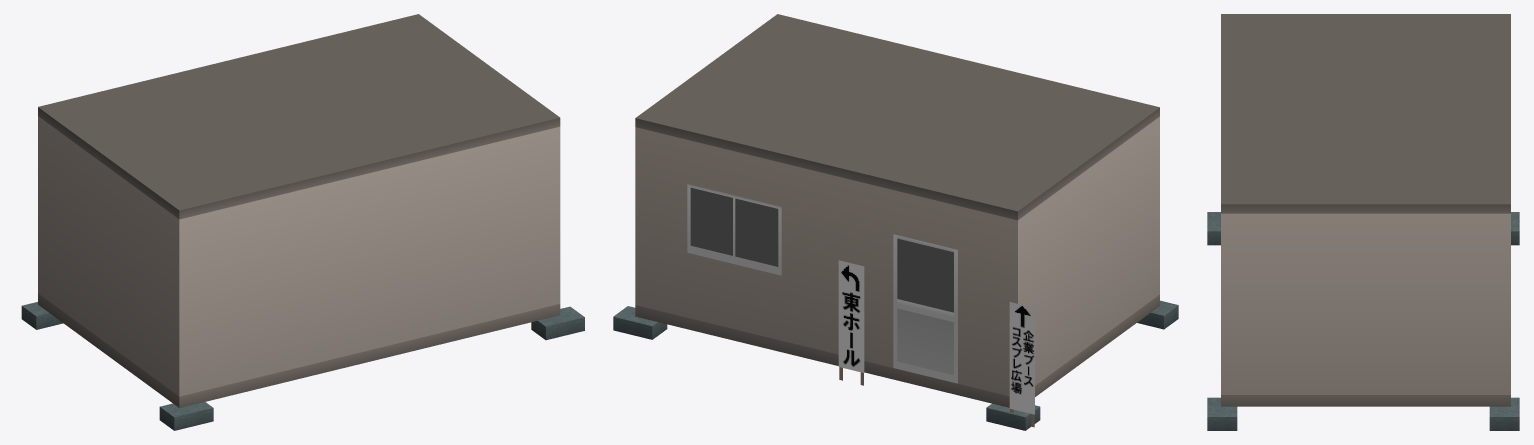
The model's file is K_JOSHI.glb.
3 views of the same model, side by side, from view 1: azimuth 30°, elevation 25°; view 2: azimuth 150°, elevation 25°; view 3: azimuth 270°, elevation 25° (orthographic). The views are drawn at different scales.
Visible parts, largest first — view 1: obj1; view 2: obj1; view 3: obj1.
Boxes of the visible parts, <box> form: obj1: <box>21,14,584,430</box>; obj1: <box>613,14,1178,430</box>; obj1: <box>1207,14,1519,430</box>.
Bounding box in the file's own units: 16.51 × 8 × 10.41.
4 materials, 4 textured.
